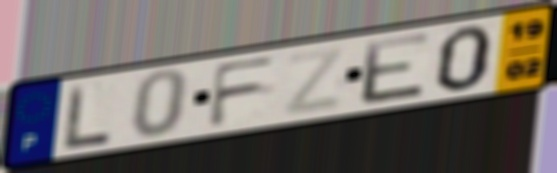0: (124, 67, 195, 141), (433, 23, 497, 93)
E: (359, 29, 434, 107)
F: (206, 53, 283, 131)
L: (63, 81, 115, 153)
Z: (281, 43, 350, 118)
